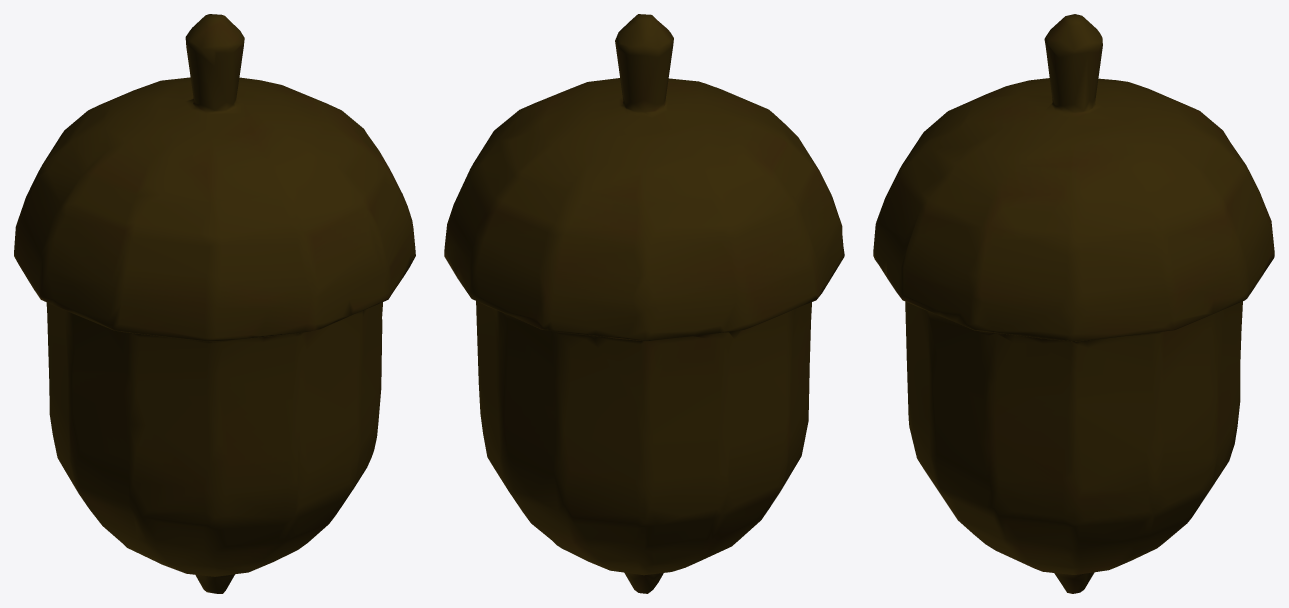
File: gen3d-acorn-lod0.glb
The picture shows the model from 3 angles, left to right: view 1: azimuth 30°, elevation 25°; view 2: azimuth 150°, elevation 25°; view 3: azimuth 270°, elevation 25°; orthographic projection.
Visible parts, largest first — view 1: part_0; view 2: part_0; view 3: part_0.
Part boxes in pixels (<box>): part_0: <box>14,14,415,593</box>; part_0: <box>444,14,844,593</box>; part_0: <box>873,14,1274,593</box>.
Size of the model in its own units: 0.6336 by 0.9992 by 0.6339.
